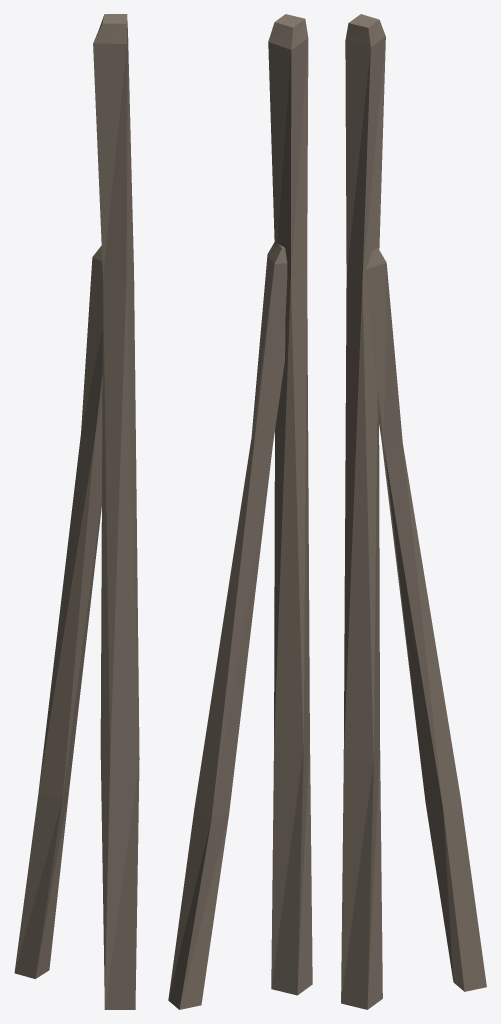
The model's file is SM_Bld_Tent_Pole_01.glb.
3 renders of one model, left to right at view 1: azimuth 90°, elevation 25°; view 2: azimuth 150°, elevation 25°; view 3: azimuth 330°, elevation 25°, orthographic.
Visible parts, largest first — view 1: SM_Bld_Tent_Pole_01_00; view 2: SM_Bld_Tent_Pole_01_00; view 3: SM_Bld_Tent_Pole_01_00.
Boxes of the visible parts, x1,y1,x2,y2 form: SM_Bld_Tent_Pole_01_00: (14, 14, 139, 1009); SM_Bld_Tent_Pole_01_00: (168, 14, 312, 1009); SM_Bld_Tent_Pole_01_00: (341, 14, 486, 1009).
Bounding box in the file's own units: 0.3423 × 3.33 × 0.3829.
Materials: 1 (1 with a texture image).
